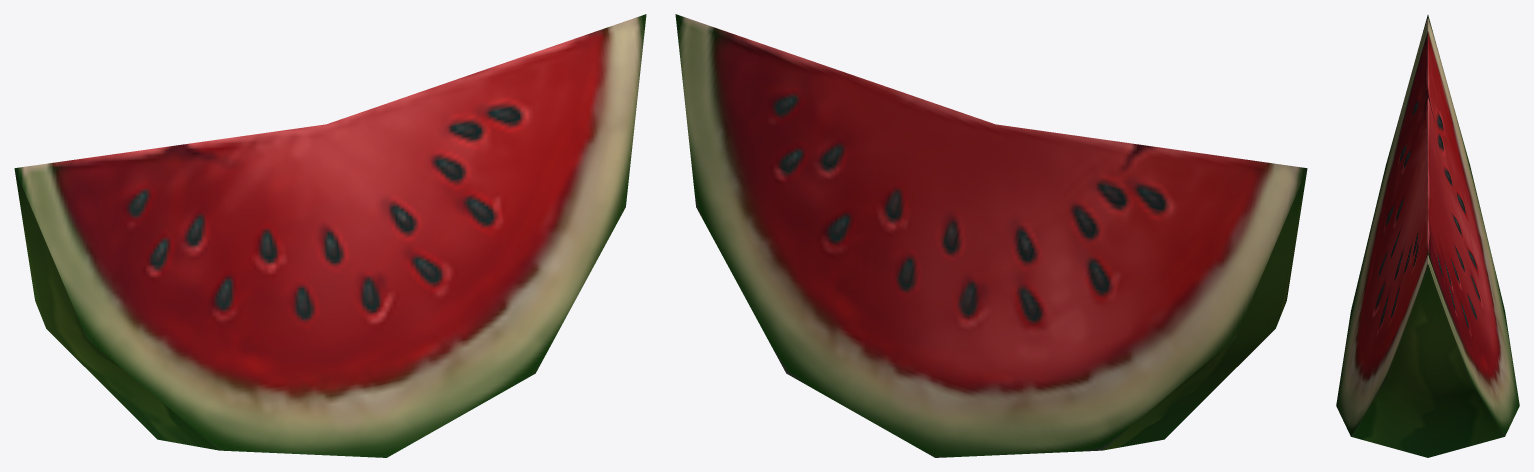
The model's file is watermelon.fbx.
The picture shows the model from 3 angles, left to right: view 1: azimuth 30°, elevation 25°; view 2: azimuth 150°, elevation 25°; view 3: azimuth 270°, elevation 25°; orthographic projection. The views are drawn at different scales.
Visible parts, largest first — view 1: watermelon; view 2: watermelon; view 3: watermelon.
Part boxes in pixels (x1=…): watermelon: x1=14, y1=14, x2=646, y2=457; watermelon: x1=675, y1=14, x2=1307, y2=457; watermelon: x1=1336, y1=15, x2=1519, y2=457.
Bounding box in the file's own units: 62.16 × 32.8 × 19.16.
